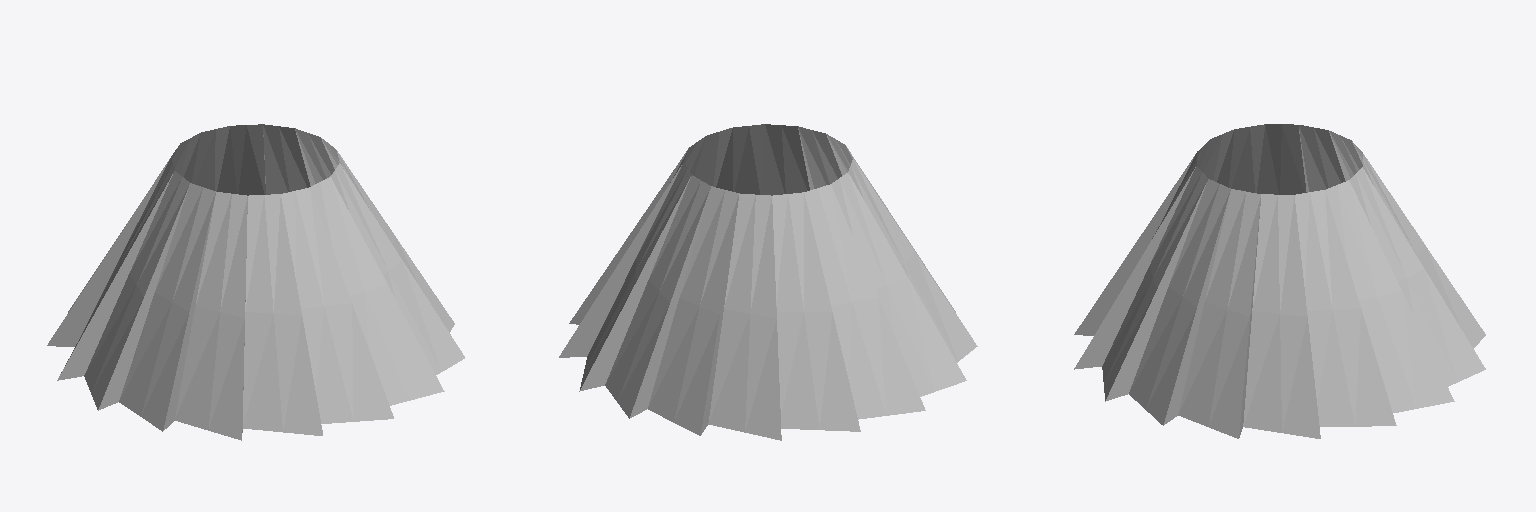
Rendered from skirt3.obj.
The picture shows the model from 3 angles: view 1: azimuth 30°, elevation 25°; view 2: azimuth 150°, elevation 25°; view 3: azimuth 270°, elevation 25°; orthographic projection.
Parts seen in each view (by area): view 1: LSKIRT.001; view 2: LSKIRT.001; view 3: LSKIRT.001.
Boxes of the visible parts, <box> form: LSKIRT.001: <box>47,124,464,440</box>; LSKIRT.001: <box>559,124,977,440</box>; LSKIRT.001: <box>1074,124,1485,438</box>.
Bounding box in the file's own units: 2.63 × 1.35 × 2.63.